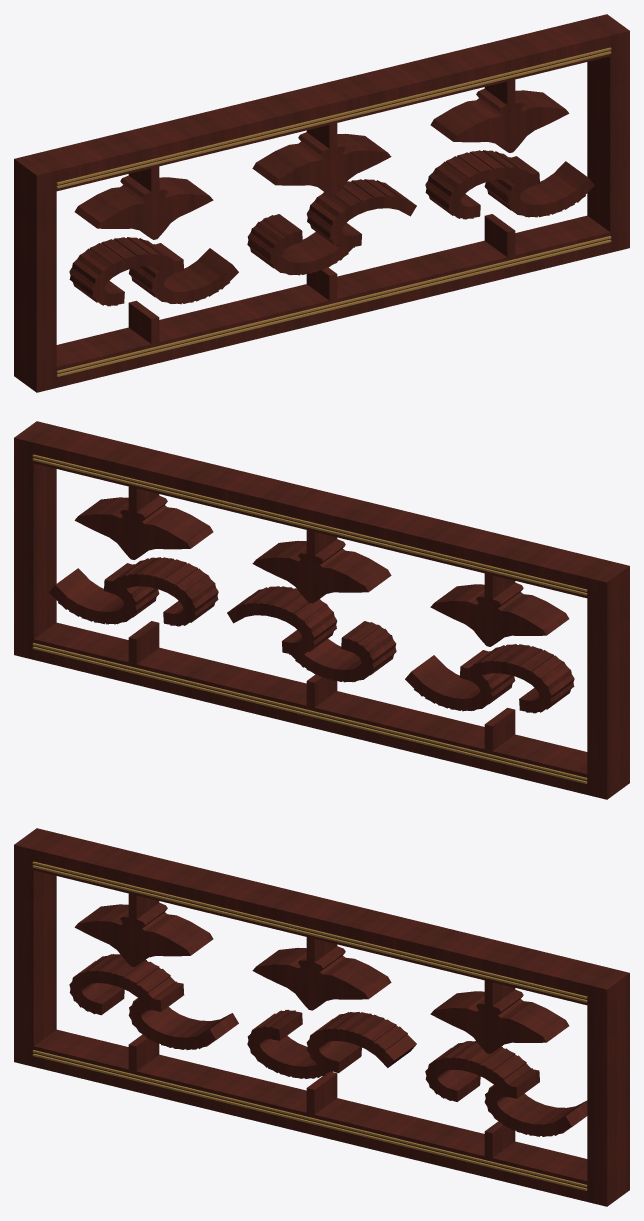
The model's file is hengpi-v1.glb.
3 renders of one model, top to bottom at view 1: azimuth 30°, elevation 25°; view 2: azimuth 150°, elevation 25°; view 3: azimuth 330°, elevation 25°, orthographic.
Visible parts, largest first — view 1: hengpi, hengpi_gold; view 2: hengpi, hengpi_gold; view 3: hengpi, hengpi_gold.
Boxes of the visible parts, x1,y1,x2,y2 form: hengpi: [14, 14, 629, 392]; hengpi_gold: [56, 47, 611, 376]; hengpi: [14, 421, 629, 799]; hengpi_gold: [32, 454, 587, 783]; hengpi: [14, 828, 629, 1206]; hengpi_gold: [32, 861, 587, 1190].
Bounding box in the file's own units: 1.2 × 0.42 × 0.088.
Materials: 2 (1 with a texture image).
